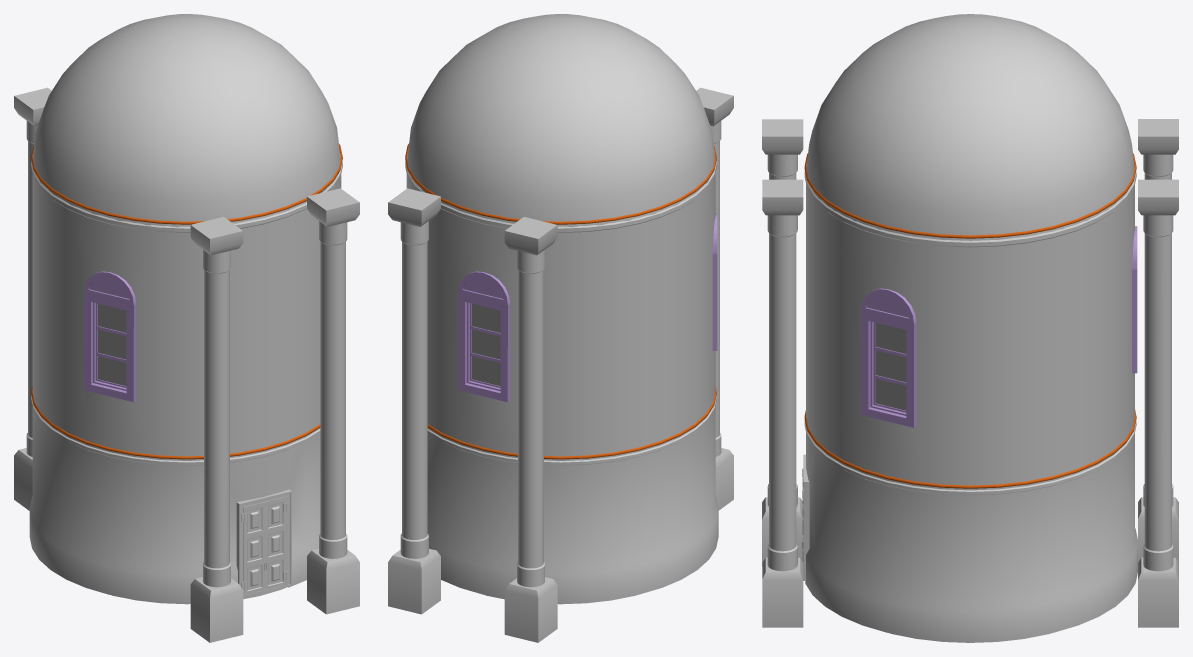
File: MgTower.FBX
3 views of the same model, side by side, from view 1: azimuth 30°, elevation 25°; view 2: azimuth 150°, elevation 25°; view 3: azimuth 270°, elevation 25° (orthographic). The views are drawn at different scales.
Visible parts, largest first — view 1: Cylinder002, Sphere002, Box003, Box002, Group003, Box005, door, Box001; view 2: Cylinder002, Sphere002, Box005, Box004, Group001, Box003, Group003; view 3: Cylinder002, Sphere002, Box002, Box004, Group002, Box003, Box005, Group001, Box001.
Boxes of the visible parts, bbox=[...] form: Cylinder002: bbox=[29, 144, 342, 603]; Sphere002: bbox=[33, 14, 340, 227]; Box003: bbox=[190, 216, 243, 642]; Box002: bbox=[307, 188, 359, 614]; Group003: bbox=[84, 271, 136, 402]; Box005: bbox=[14, 87, 51, 510]; door: bbox=[244, 498, 286, 594]; Box001: bbox=[236, 489, 291, 595]; Cylinder002: bbox=[405, 144, 718, 603]; Sphere002: bbox=[407, 14, 714, 227]; Box005: bbox=[504, 217, 557, 642]; Box004: bbox=[388, 188, 440, 614]; Group001: bbox=[458, 271, 510, 402]; Box003: bbox=[696, 87, 733, 510]; Group003: bbox=[712, 213, 717, 350]; Cylinder002: bbox=[804, 153, 1137, 641]; Sphere002: bbox=[806, 14, 1134, 240]; Box002: bbox=[762, 179, 803, 627]; Box004: bbox=[1138, 179, 1178, 627]; Group002: bbox=[860, 288, 916, 427]; Box003: bbox=[762, 119, 803, 566]; Box005: bbox=[1138, 119, 1178, 562]; Group001: bbox=[1132, 226, 1137, 373]; Box001: bbox=[802, 454, 809, 580].
Size of the model in its own units: 0.2484 by 0.4563 by 0.3086.
